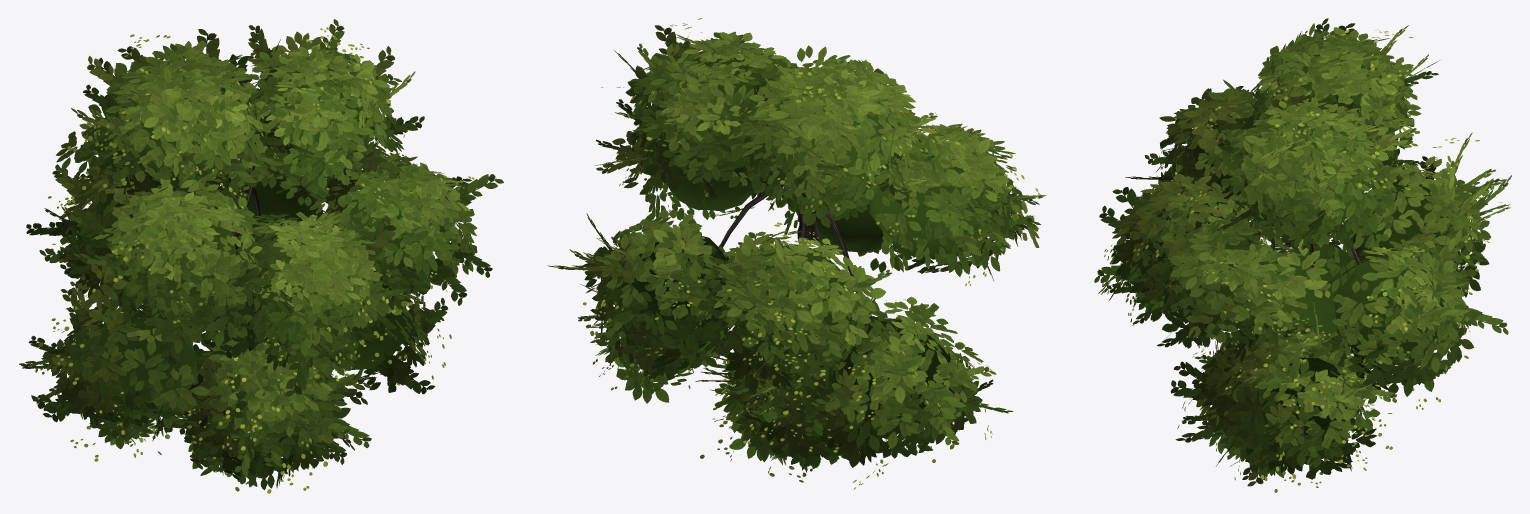
File: CrePlant03.glb
3 views of the same model, side by side, from view 1: azimuth 30°, elevation 25°; view 2: azimuth 150°, elevation 25°; view 3: azimuth 270°, elevation 25° (orthographic). The views are drawn at different scales.
Visible parts, largest first — view 1: CrePlant03_leaves; view 2: CrePlant03_leaves; view 3: CrePlant03_leaves.
Part boxes in pixels (x1,y1,x2,y2): CrePlant03_leaves: [19, 19, 503, 493]; CrePlant03_leaves: [547, 18, 1046, 489]; CrePlant03_leaves: [1094, 18, 1511, 492].
Bounding box in the file's own units: 3.75 × 3.71 × 3.3.
3 materials, 2 textured.
